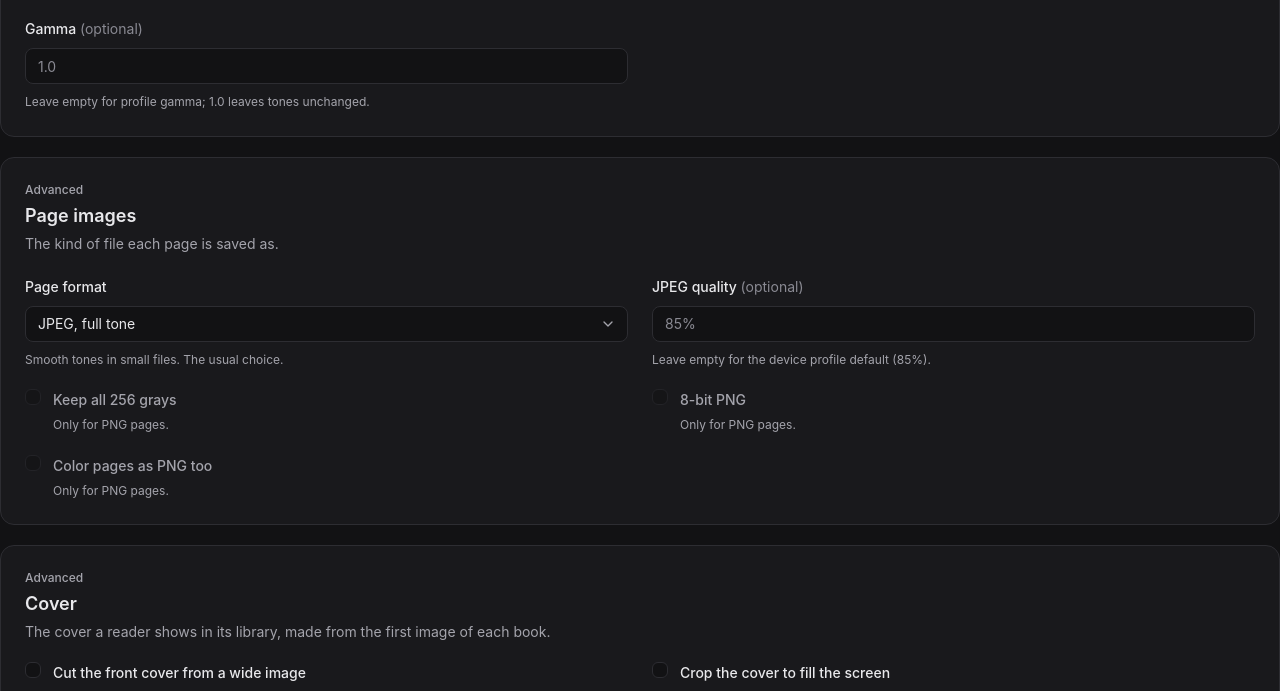
it: mangapress settings editor › offers the PNG variants for PNG pages, and says what the JPEG quality is still for
(page scrolled)
Check: the text "Only for PNG pages." is shown 3 times, box [53,417,169,432]; [680,417,796,432]; [53,482,169,498]
Check: the text "Smooth tones in small files. The usual choice." is shown, box [25,352,284,366]
Select "PNG, reduced to the screen’s grays" in the dropdown labelled "Page format" at [326, 324], box [25,306,628,342]
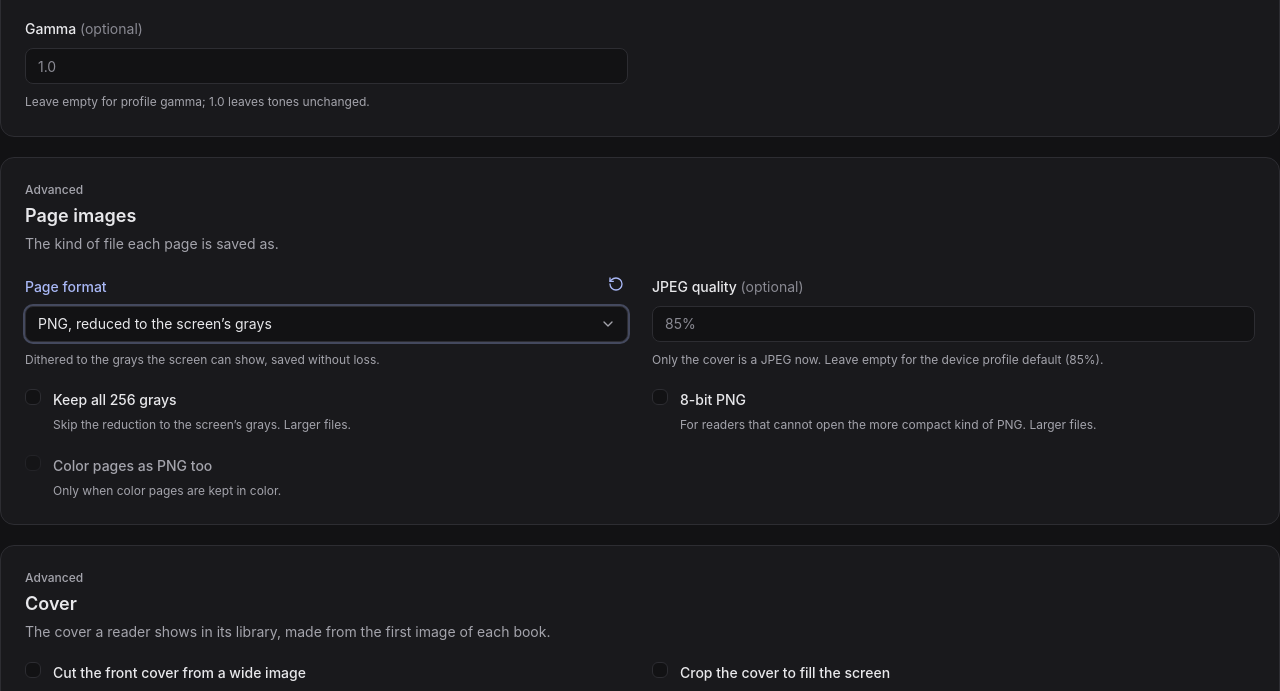
Check: the number field labelled "JPEG quality (optional)" is enabled, box [652,306,1255,342]
Check: the text "Dithered to the grays the screen can show, saved without loss." is shown, box [25,352,380,366]
Check: the text "Only when color pages are kept in color." is shown, box [53,482,281,498]
Click the checkbox named "8-bit PNG" next to "8-bit PNG" at [660, 397], box [652,389,668,405]
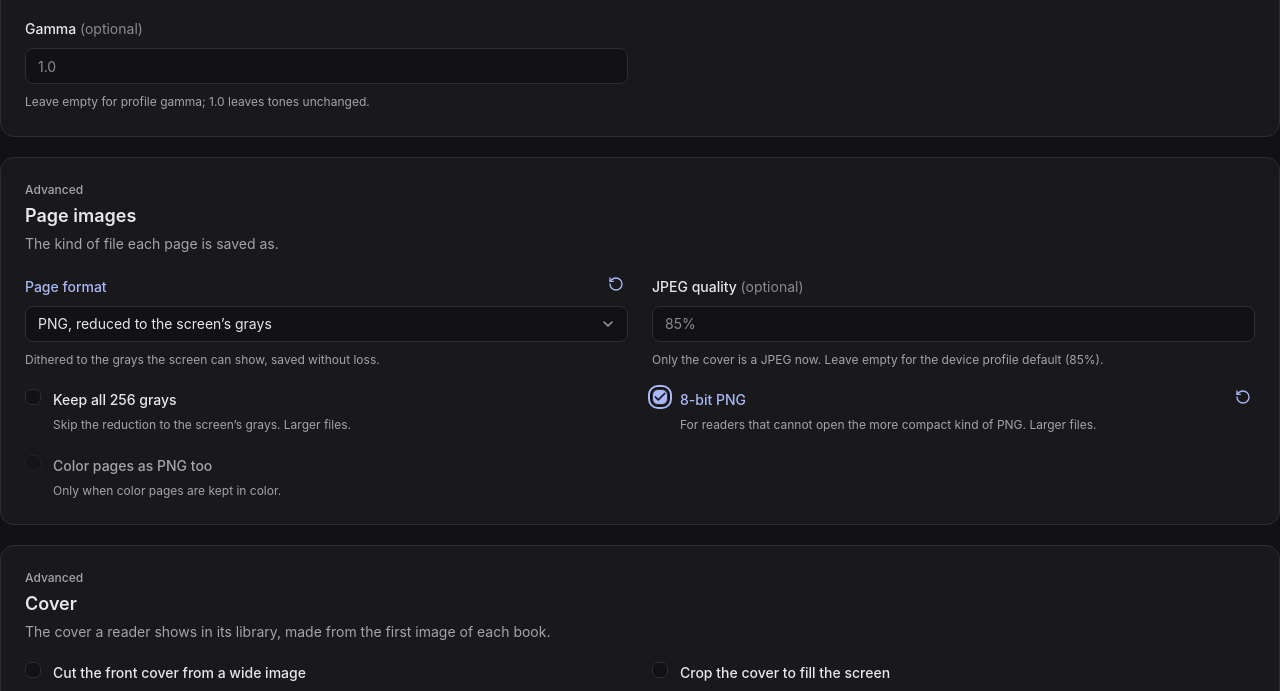
Click the checkbox named "Keep all 256 grays" next to "Keep all 256 grays" at [33, 397], box [25,389,41,405]
(page scrolled)
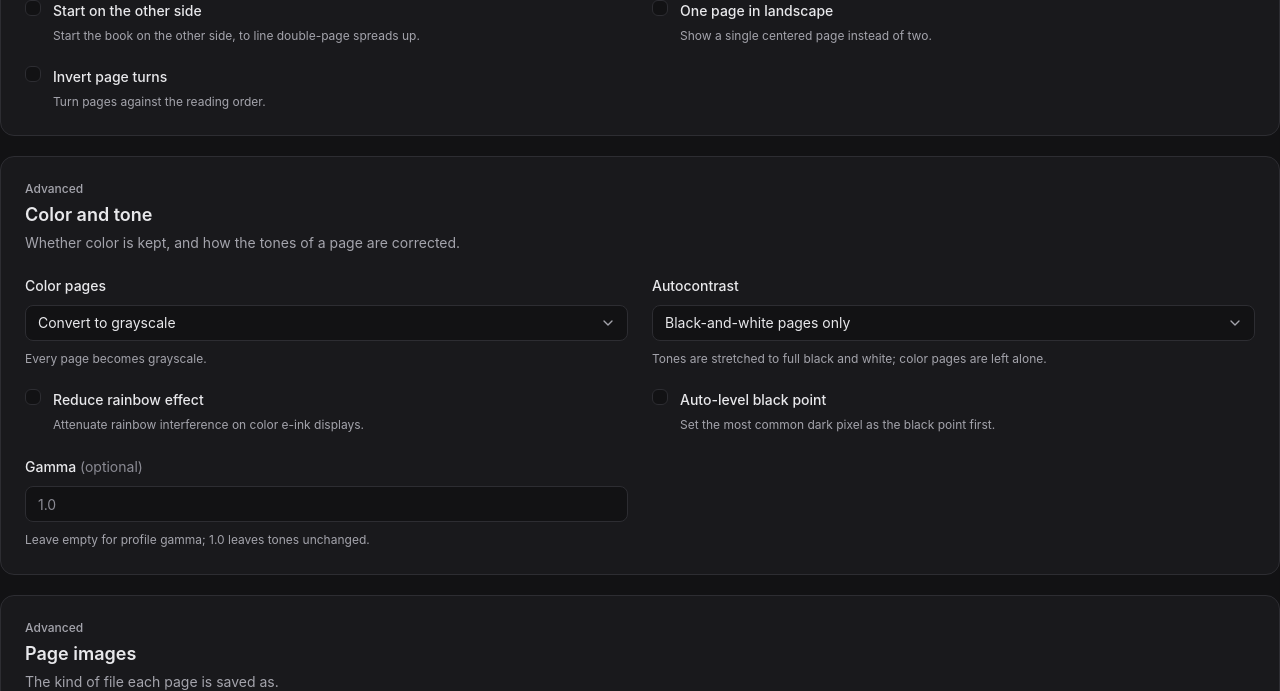
Select "Keep in color" in the dropdown labelled "Color pages" at [326, 323], box [25,305,628,341]
(page scrolled)
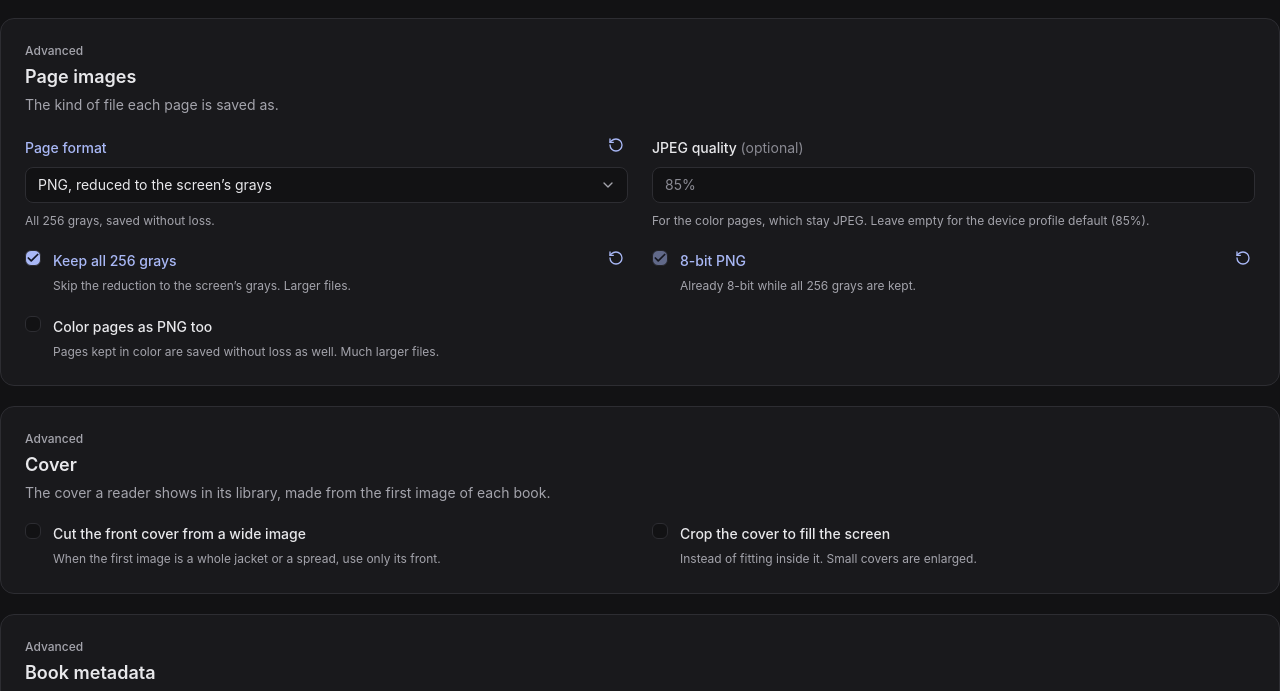
Click the checkbox named "Color pages as PNG too" next to "Color pages as PNG too" at [33, 324], box [25,316,41,332]
(page scrolled)
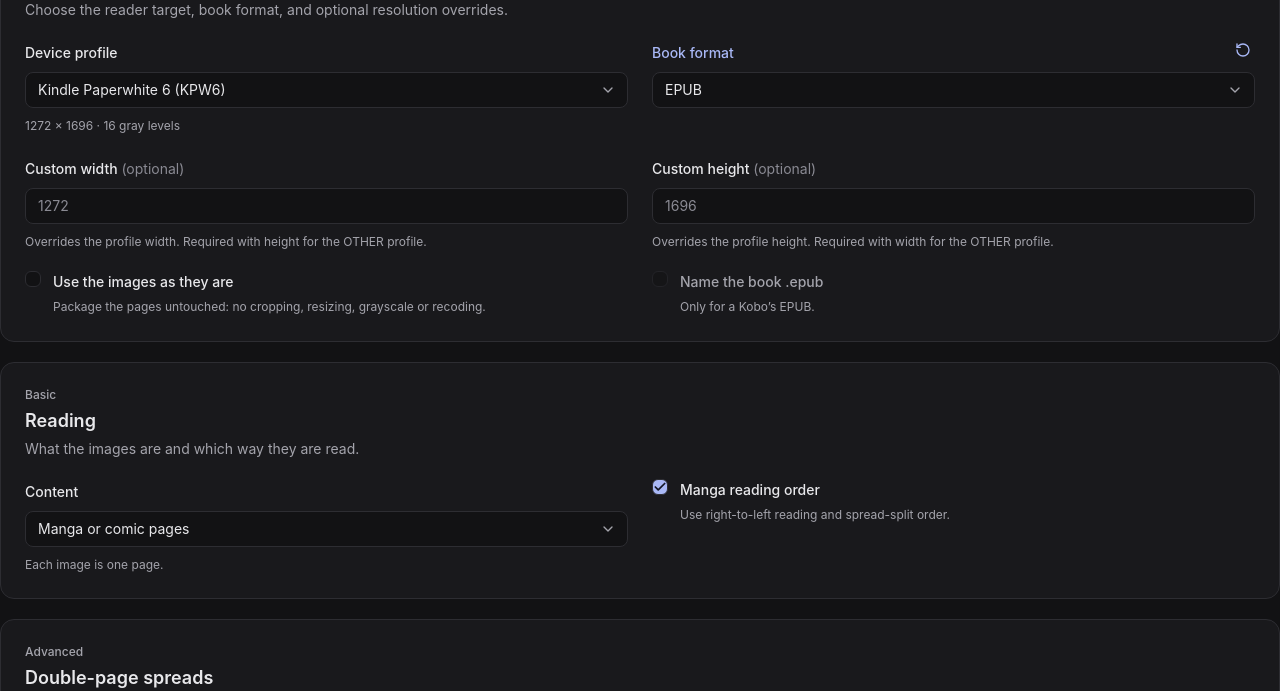
Select "CBZ" in the dropdown labelled "Book format" at [954, 90], box [652,72,1255,108]
(page scrolled)
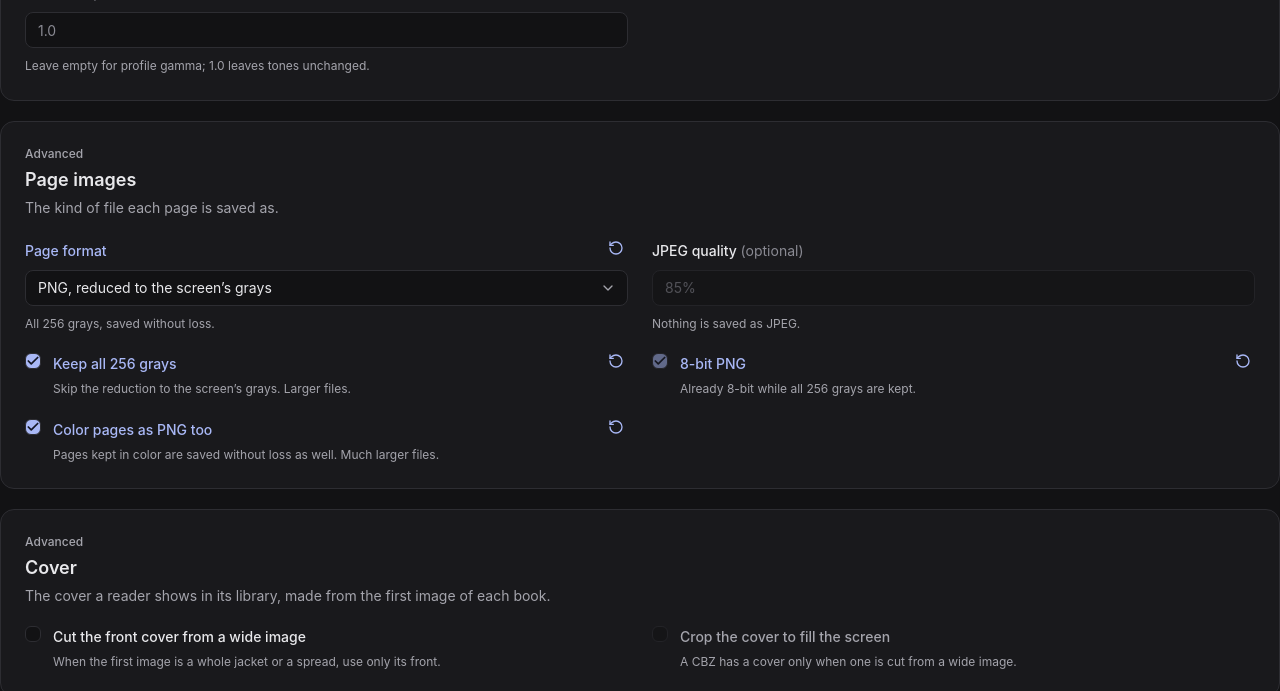
Check: the number field labelled "JPEG quality (optional)" is disabled, box [652,270,1255,306]
Check: the text "Nothing is saved as JPEG." is shown, box [652,316,800,330]
